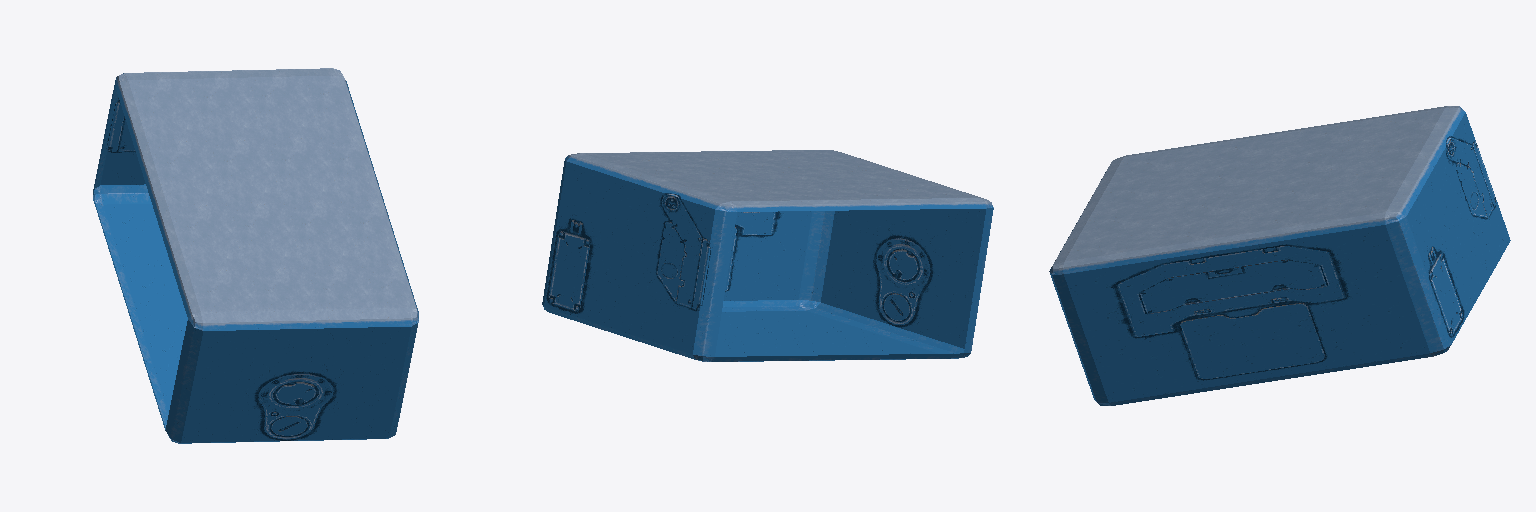
3 views of the same model, side by side, from view 1: azimuth 30°, elevation 25°; view 2: azimuth 150°, elevation 25°; view 3: azimuth 270°, elevation 25° (orthographic).
Visible parts, largest first — view 1: Box_low; view 2: Box_low; view 3: Box_low.
Boxes of the visible parts, <box> form: Box_low: <box>93,68,418,443</box>; Box_low: <box>542,150,993,361</box>; Box_low: <box>1049,106,1510,405</box>.
Bounding box in the file's own units: 1.07 × 0.9094 × 1.49.
1 materials, 1 textured.